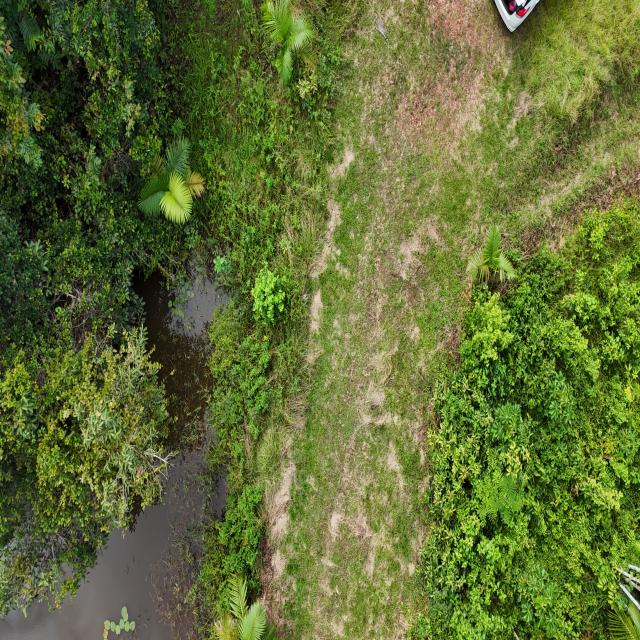vegetation: (410, 198, 639, 639)
